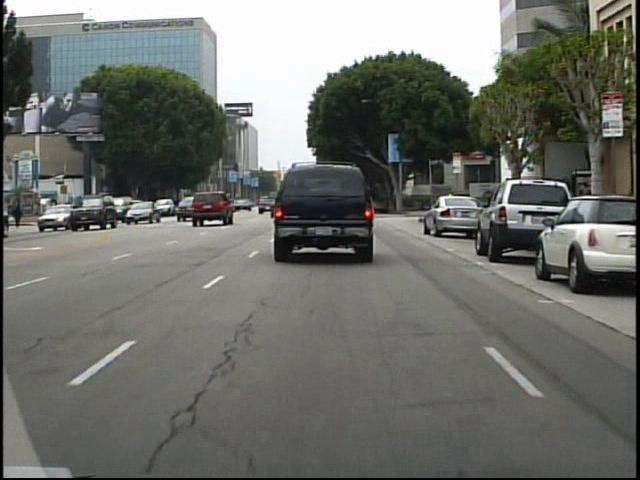person: (494, 176, 515, 224), (442, 186, 461, 227), (15, 203, 26, 229)
